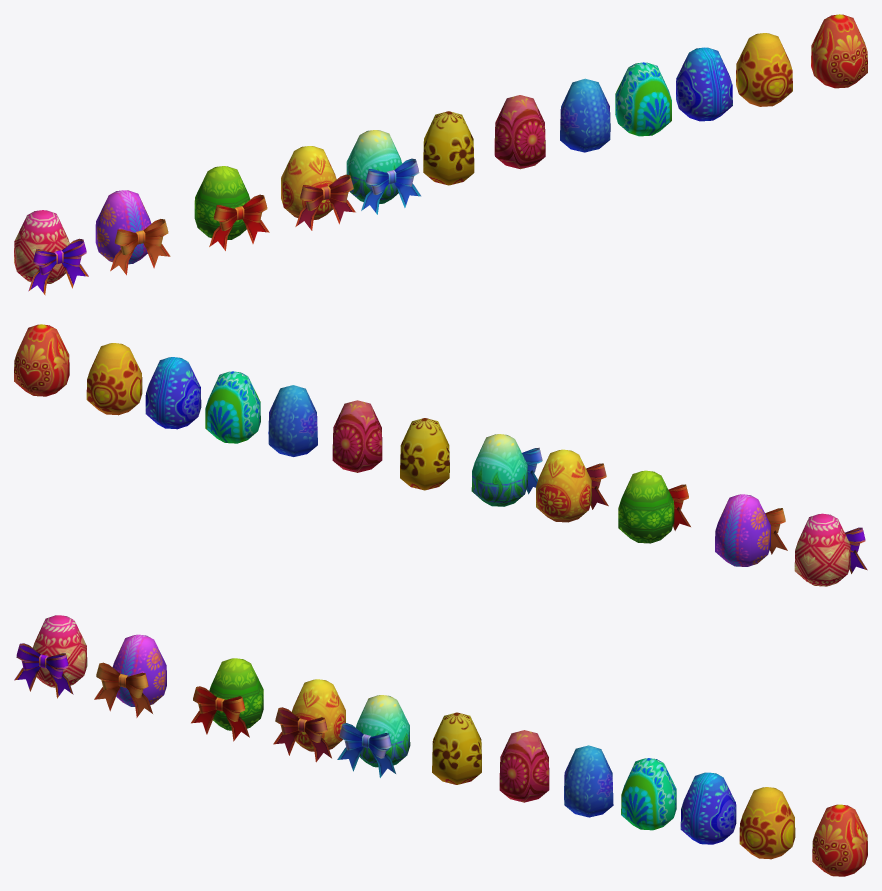
The model's file is Easter_Egg_Collection.FBX.
The picture shows the model from 3 angles, top to bottom: view 1: azimuth 30°, elevation 25°; view 2: azimuth 150°, elevation 25°; view 3: azimuth 330°, elevation 25°; orthographic projection. The views are drawn at different scales.
Parts seen in each view (by area): view 1: Egg_11 (×2), Egg_03, Egg_02, Egg_01, Egg_04, Egg_05, Egg_10, Egg_09, Egg_06, Egg_07, Egg_08; view 2: Egg_11 (×2), Egg_01, Egg_02, Egg_03, Egg_04, Egg_05, Egg_10, Egg_09, Egg_07, Egg_06, Egg_08; view 3: Egg_11 (×2), Egg_03, Egg_02, Egg_01, Egg_05, Egg_04, Egg_10, Egg_09, Egg_07, Egg_06, Egg_08.
Boxes of the visible parts, box(x1,y1,x2,y2) form: Egg_11 (×2): box(736, 14, 867, 106); Egg_03: box(194, 166, 269, 250); Egg_02: box(95, 190, 170, 275); Egg_01: box(14, 210, 88, 295); Egg_04: box(281, 146, 355, 230); Egg_05: box(346, 130, 421, 214); Egg_10: box(676, 47, 732, 121); Egg_09: box(615, 62, 671, 136); Egg_06: box(423, 111, 474, 185); Egg_07: box(494, 95, 545, 169); Egg_08: box(560, 78, 610, 152); Egg_11 (×2): box(14, 324, 142, 415); Egg_01: box(794, 513, 867, 586); Egg_02: box(715, 494, 787, 566); Egg_03: box(618, 470, 690, 543); Egg_04: box(536, 449, 608, 522); Egg_05: box(471, 434, 542, 506); Egg_10: box(145, 357, 201, 429); Egg_09: box(205, 371, 260, 443); Egg_07: box(332, 400, 382, 472); Egg_06: box(400, 418, 449, 490); Egg_08: box(268, 385, 317, 456); Egg_11 (×2): box(739, 787, 867, 876); Egg_03: box(191, 658, 263, 741); Egg_02: box(94, 634, 166, 717); Egg_01: box(14, 615, 87, 698); Egg_05: box(337, 695, 410, 777); Egg_04: box(273, 679, 345, 762); Egg_10: box(680, 772, 736, 844); Egg_09: box(621, 758, 676, 830); Egg_07: box(499, 730, 549, 802); Egg_06: box(432, 712, 481, 784); Egg_08: box(564, 745, 613, 817).
Size of the model in its own units: 780 by 61.56 by 58.98.
